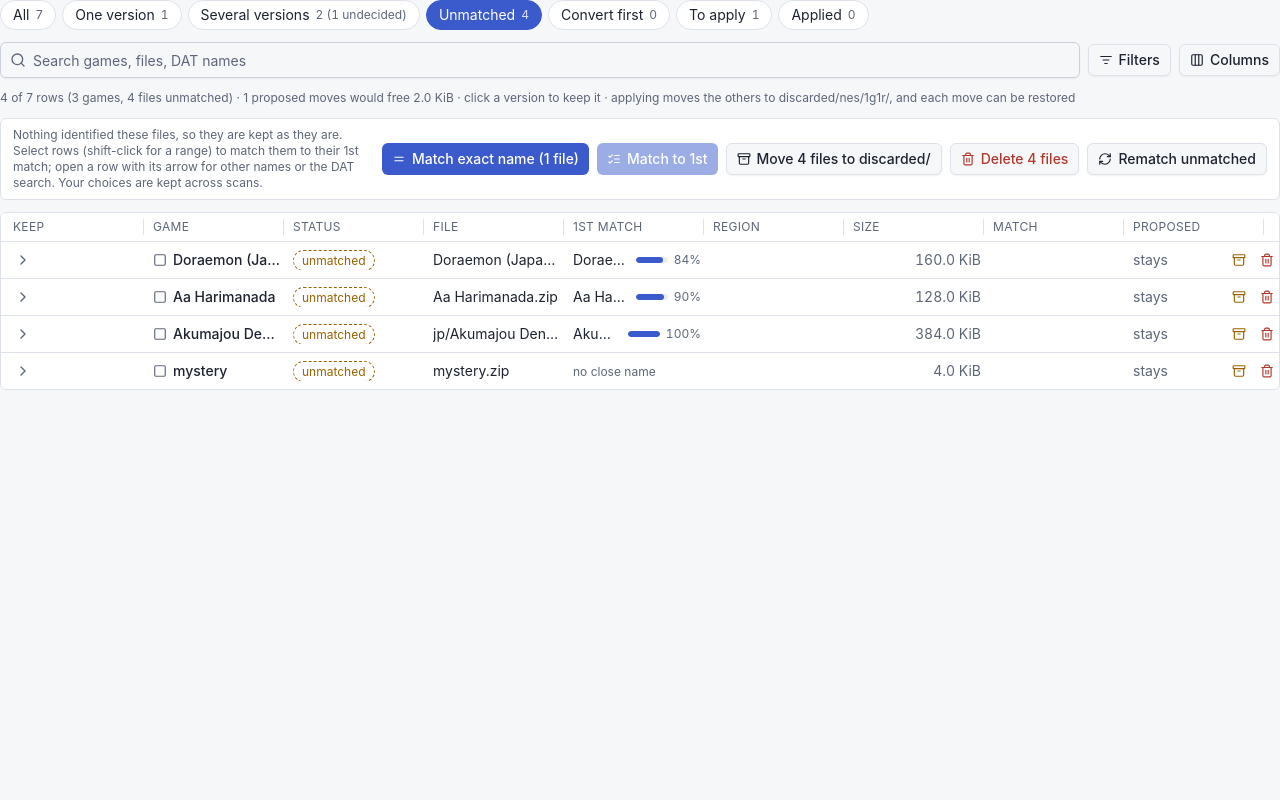
Test: moving every file shown reviews them all
The width and height of the screenshot is (1280, 800).
Click the button "Move 4 files to discarded/".
click(834, 159)  # box [726,143,942,175]
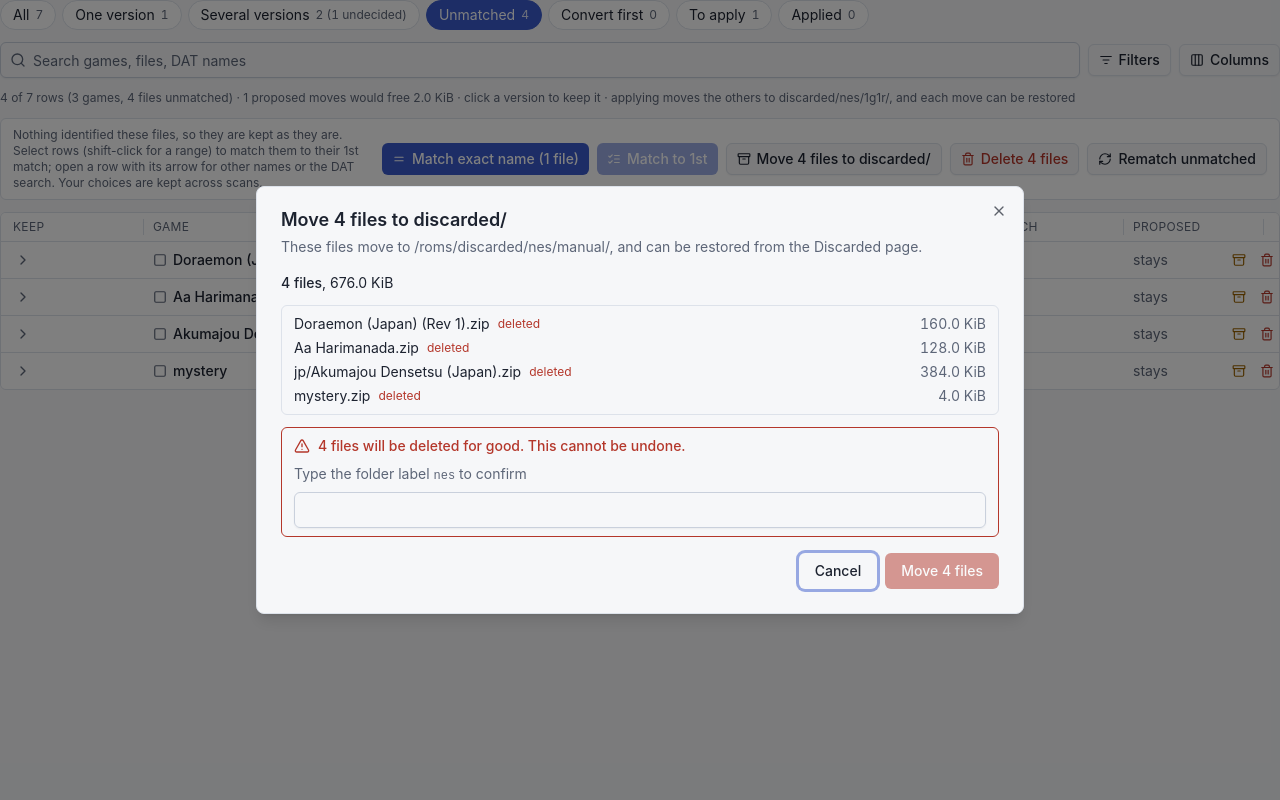
Expected: the button "Move 4 files" is shown, [885,553,999,589]
